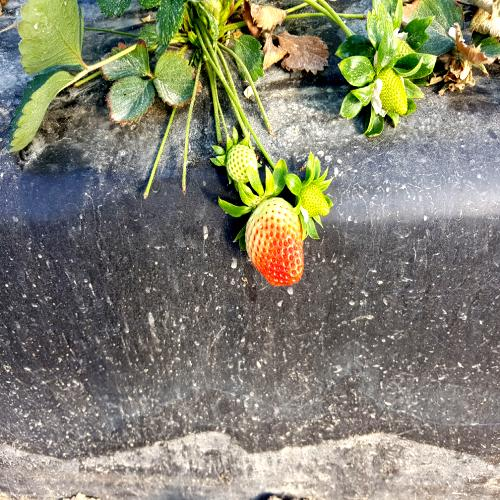partially-ripe: (238, 191, 313, 294)
unripe: (367, 60, 418, 125), (227, 139, 258, 184)
